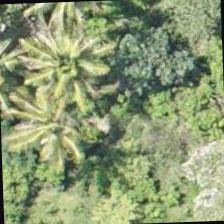Kelapa_Sawit: (4, 94, 98, 188), (11, 20, 104, 114)
